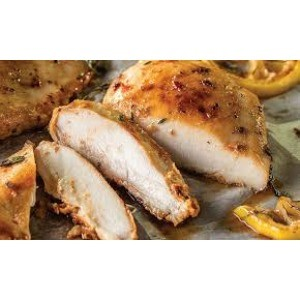chicken breast_brain food: (50, 84, 258, 215)
